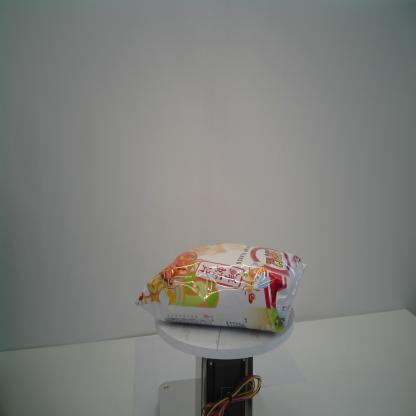Puffed Food: (133, 240, 308, 334)
